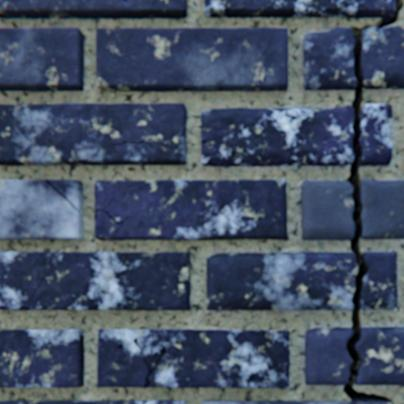brick: (97, 29, 287, 92), (0, 104, 187, 166), (95, 180, 287, 240), (98, 329, 289, 387), (0, 252, 190, 310), (0, 29, 84, 92), (0, 180, 83, 240), (0, 329, 85, 387), (0, 0, 187, 20), (205, 0, 394, 19), (202, 400, 391, 403), (0, 400, 186, 403)
broken_brick: (201, 106, 353, 167), (207, 253, 357, 310), (303, 28, 355, 91), (302, 181, 354, 240), (356, 327, 403, 384), (305, 327, 352, 384), (362, 27, 403, 90), (361, 180, 403, 239), (360, 252, 396, 309), (360, 105, 391, 166)
crack: (343, 0, 403, 403), (134, 337, 166, 387), (46, 180, 79, 211), (95, 209, 131, 225), (26, 292, 36, 309), (38, 272, 46, 288), (110, 142, 129, 146), (131, 142, 143, 144)
